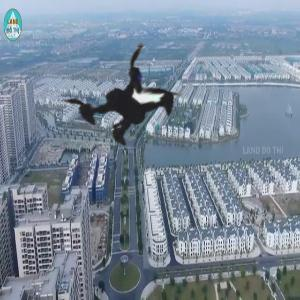drone: (22, 7, 235, 220)
